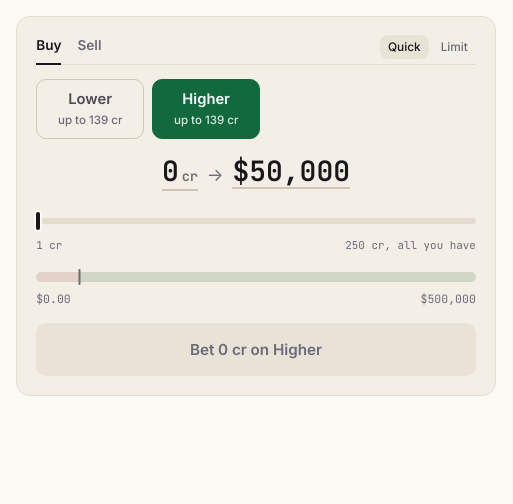
selling at a price › a sell limit opens on the position with no Sell or Cancel pill
Click the button "Sell": (90, 50) [78, 35, 102, 65]
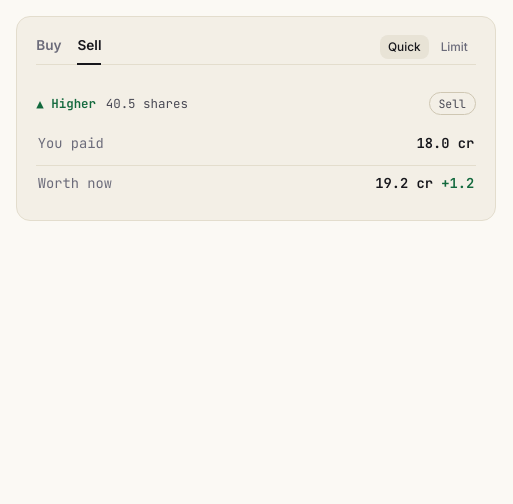
Click the button "Limit": (454, 47) [433, 35, 476, 59]
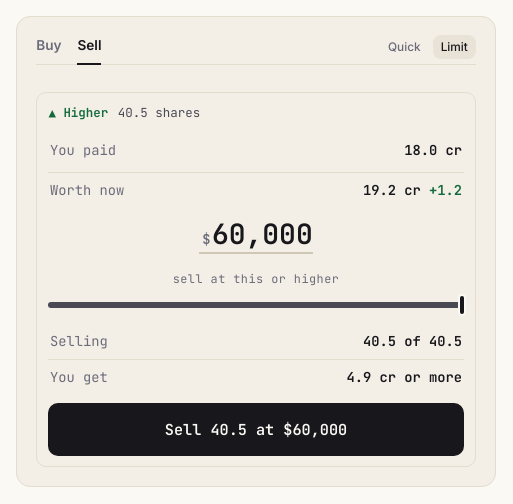
Result: the slider named "Shares of higher to sell" is shown at [48, 302, 464, 308]
